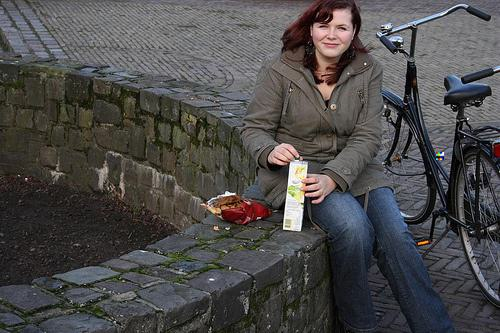car: (380, 4, 500, 308)
person: (242, 3, 455, 331)
person/hand: (302, 173, 337, 206), (266, 141, 299, 167)
person/head: (306, 4, 363, 67)
